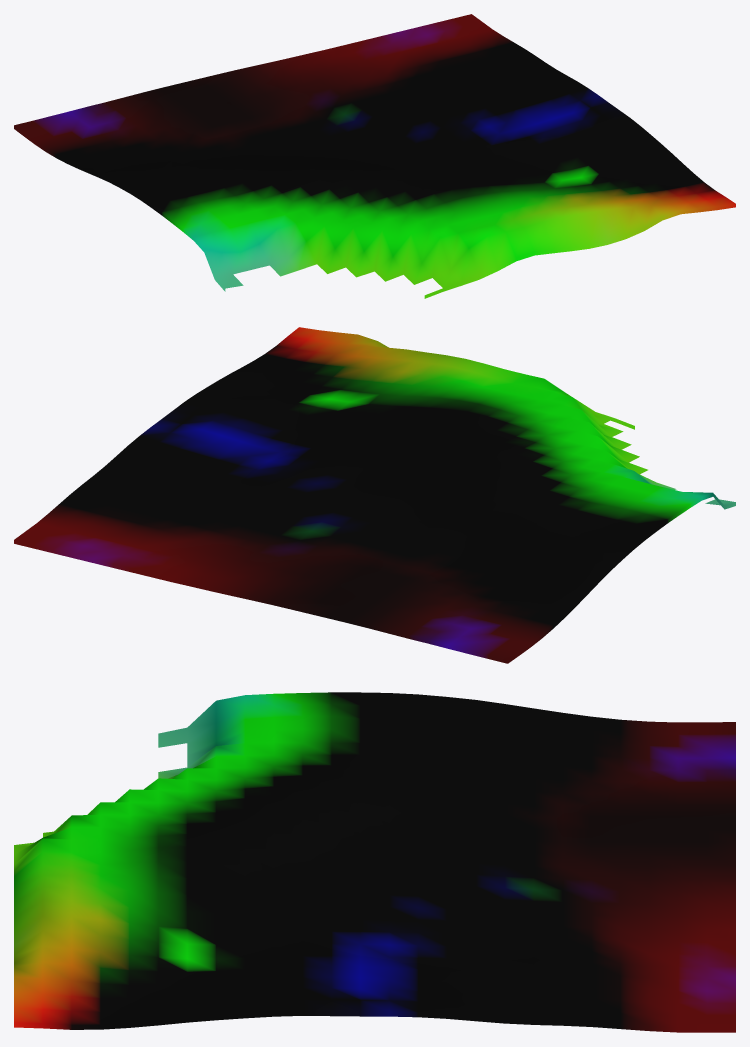
Rendered from coast_8_8.glb.
3 renders of one model, top to bottom at view 1: azimuth 30°, elevation 25°; view 2: azimuth 150°, elevation 25°; view 3: azimuth 270°, elevation 25°, orthographic. The views are drawn at different scales.
Parts seen in each view (by area): view 1: terrain; view 2: terrain; view 3: terrain.
Part boxes in pixels (x1=…): terrain: x1=14, y1=14, x2=735, y2=298; terrain: x1=14, y1=327, x2=735, y2=663; terrain: x1=14, y1=692, x2=735, y2=1032.
Bounding box in the file's own units: 200 × 17.68 × 200.
